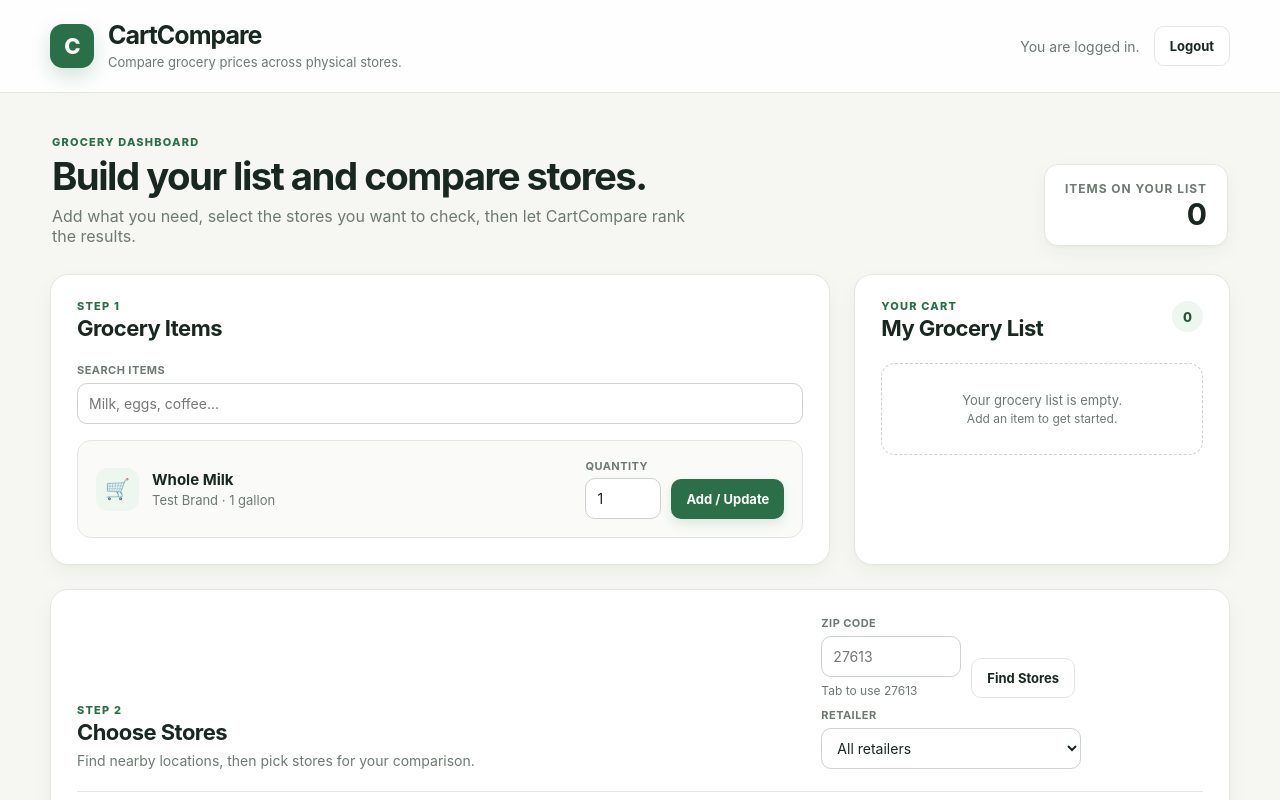
Test case: App authentication › logs out and removes the stored token
Check: the text "You are logged in." is shown, box [1020,38,1140,54]
Click the button "Logout" at {"x": 1192, "y": 46}, box [1154,26,1230,66]
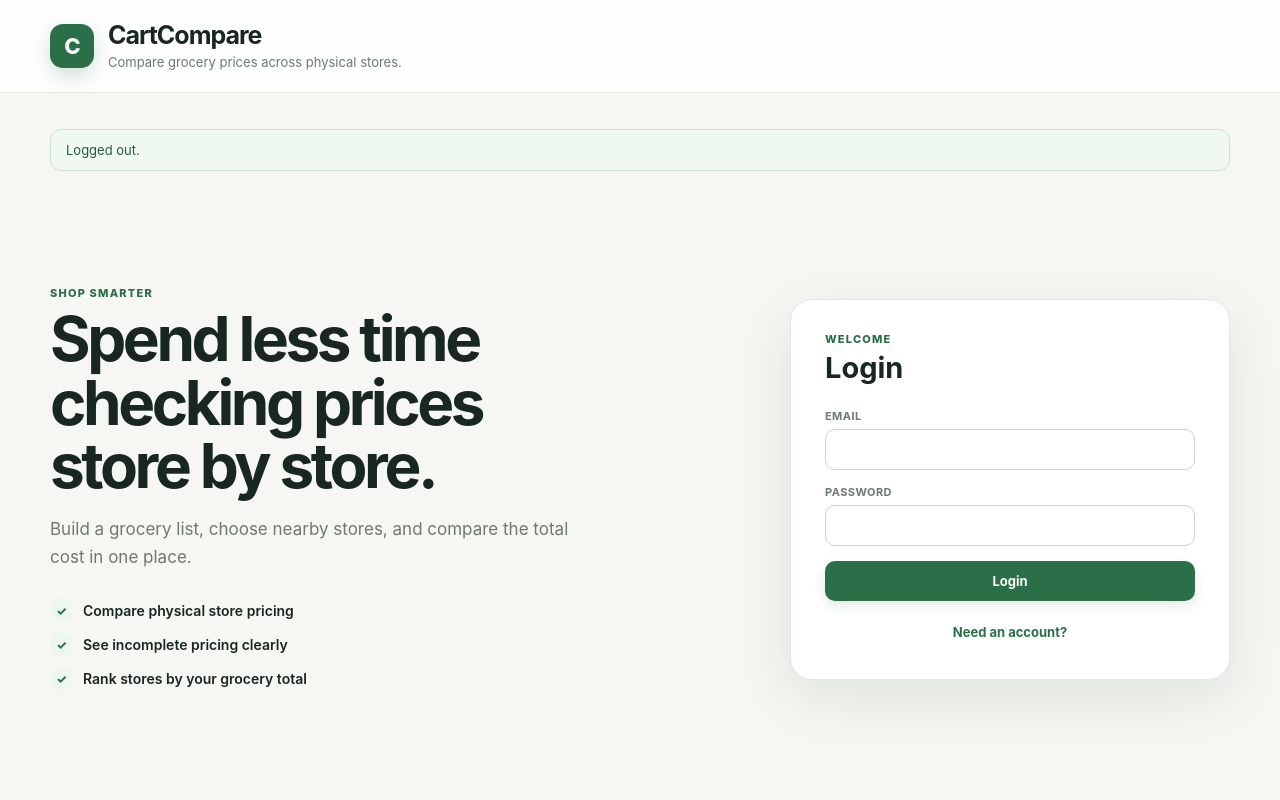
Check: the text "Logged out." is shown, box [50,129,1230,171]
Check: the heading "Login" is shown, box [825,350,903,384]
